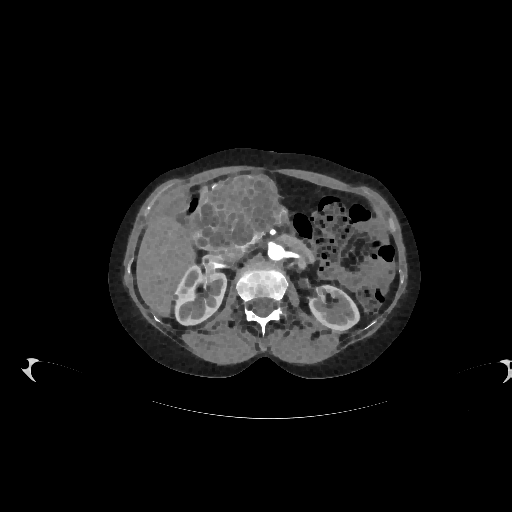Lesion: (171, 291, 180, 303)
